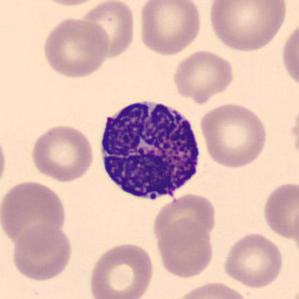Basophil: (93, 90, 207, 208)
RBC: (199, 100, 269, 170), (0, 178, 69, 249), (205, 0, 290, 53), (41, 16, 111, 80), (28, 122, 96, 183), (87, 240, 156, 299), (9, 223, 75, 283), (150, 191, 219, 248), (154, 218, 216, 280), (136, 0, 204, 56), (221, 231, 285, 289), (170, 48, 236, 104), (78, 0, 137, 59), (260, 180, 298, 241), (172, 280, 250, 299), (279, 19, 299, 92), (289, 99, 299, 164), (0, 128, 9, 194), (32, 0, 107, 7), (289, 281, 298, 299)
